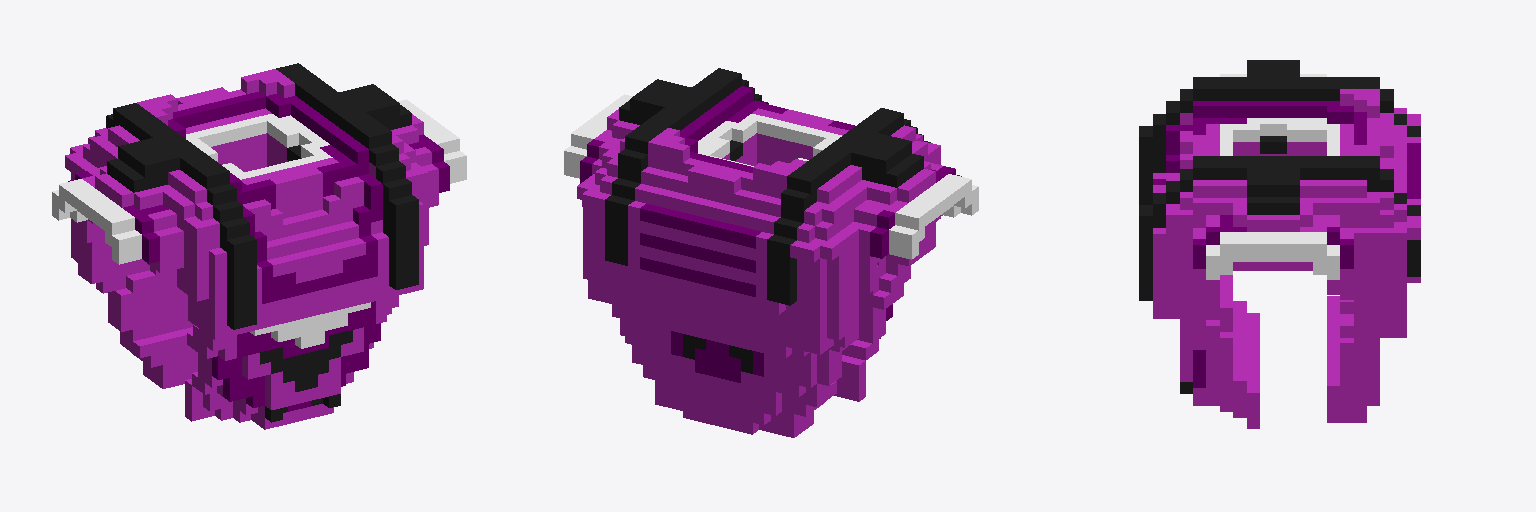
3 renders of one model, left to right at view 1: azimuth 30°, elevation 25°; view 2: azimuth 150°, elevation 25°; view 3: azimuth 270°, elevation 25°, orthographic.
Parts seen in each view (by area): view 1: object 1; view 2: object 1; view 3: object 1.
Part boxes in pixels (x1,y1,x2,y2): object 1: (52, 63, 466, 429); object 1: (564, 68, 978, 437); object 1: (1139, 60, 1420, 428).
Bounding box in the file's own units: 3 × 2.2 × 2.1.
1 materials, 1 textured.